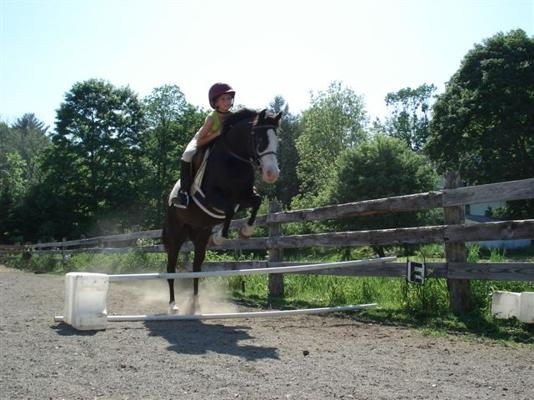person: (172, 84, 238, 209)
